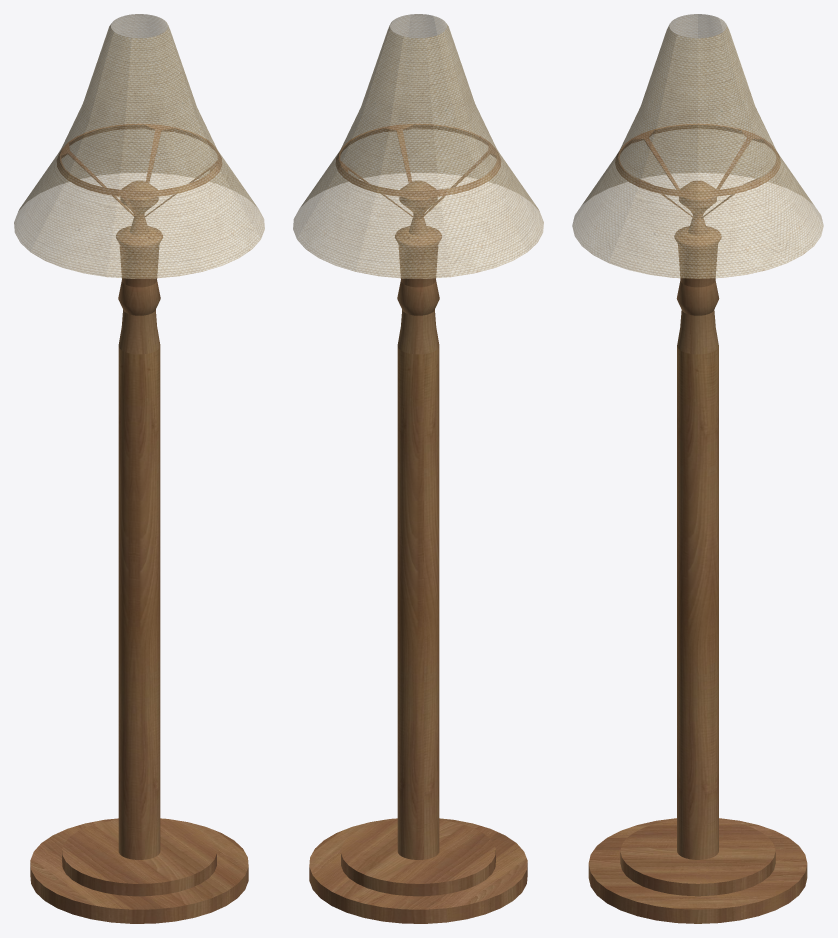
The model's file is LampaPicior.obj.
3 views of the same model, side by side, from view 1: azimuth 30°, elevation 25°; view 2: azimuth 150°, elevation 25°; view 3: azimuth 270°, elevation 25° (orthographic).
Visible parts, largest first — view 1: Cube.001; view 2: Cube.001; view 3: Cube.001.
Boxes of the visible parts, bbox=[...] form: Cube.001: bbox=[14, 14, 264, 923]; Cube.001: bbox=[293, 14, 543, 923]; Cube.001: bbox=[572, 14, 823, 923].
Size of the model in its own units: 0.6325 by 2.36 by 0.6325.
2 materials, 2 textured.
